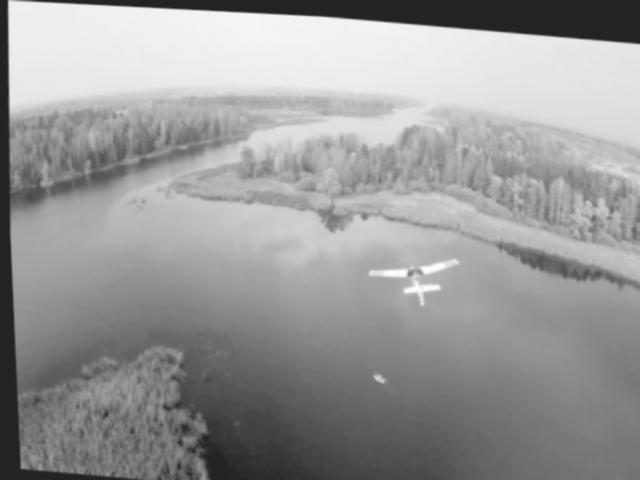hedef: (363, 235, 466, 308)
